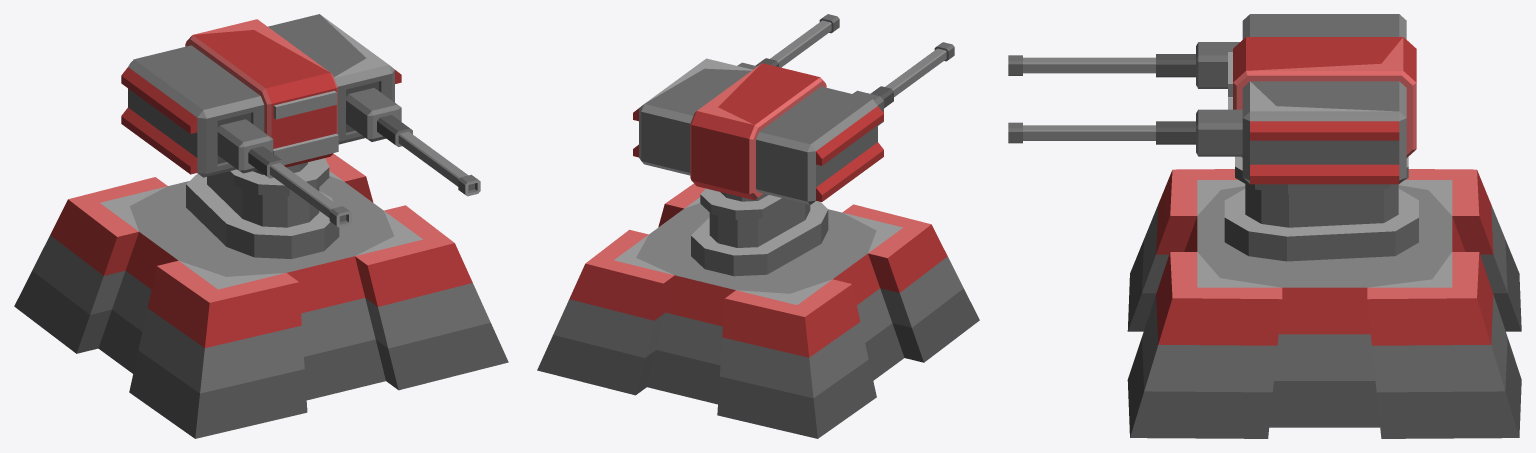
File: tower_rapid_red_1.fbx
3 renders of one model, left to right at view 1: azimuth 30°, elevation 25°; view 2: azimuth 150°, elevation 25°; view 3: azimuth 270°, elevation 25°, orthographic. The views are drawn at different scales.
Visible parts, largest first — view 1: tower_rapid_red_1, top_rapid_red_1; view 2: tower_rapid_red_1, top_rapid_red_1; view 3: tower_rapid_red_1, top_rapid_red_1.
Boxes of the visible parts, x1,y1,x2,y2 form: tower_rapid_red_1: [14, 153, 508, 438]; top_rapid_red_1: [121, 14, 480, 258]; tower_rapid_red_1: [537, 183, 979, 438]; top_rapid_red_1: [633, 14, 954, 276]; tower_rapid_red_1: [1127, 169, 1521, 438]; top_rapid_red_1: [1008, 14, 1418, 261].
Size of the model in its own units: 161 by 136 by 209.
